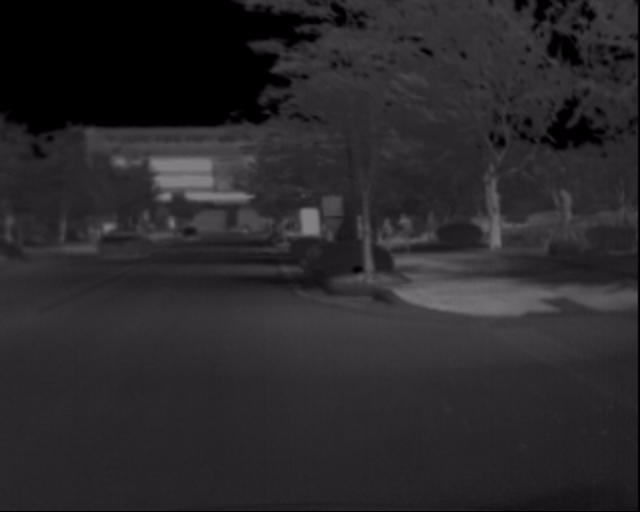person: (379, 212, 400, 264), (396, 210, 416, 259)
